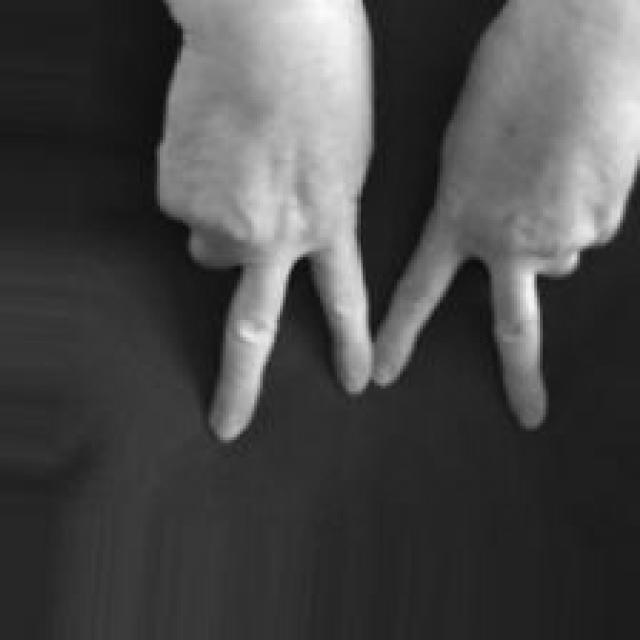M: (151, 4, 640, 452)
